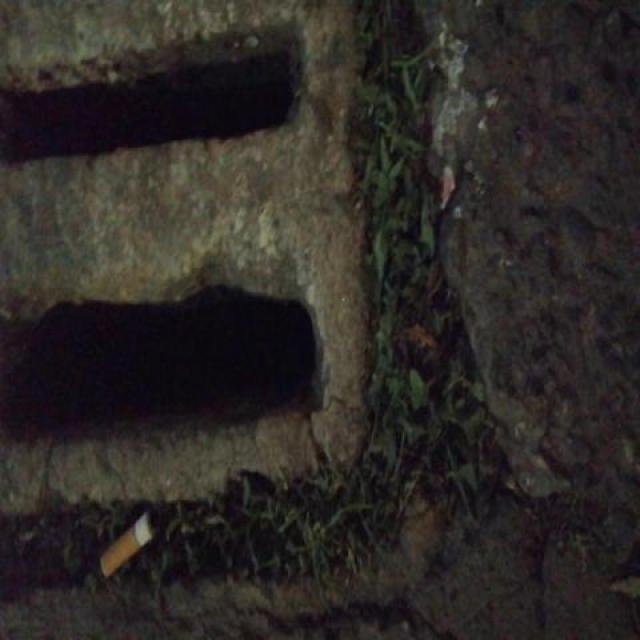non-organic waste: (97, 508, 159, 583)
